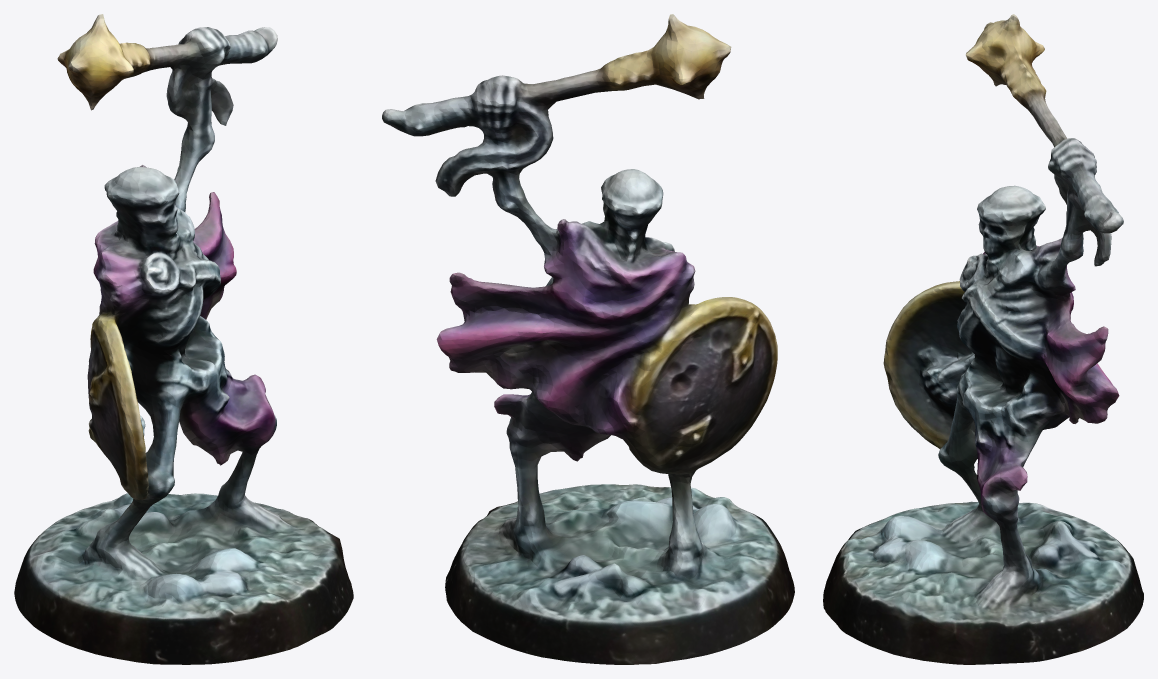
File: underworlds.sepulchral.prince-of-dust.glb
3 views of the same model, side by side, from view 1: azimuth 30°, elevation 25°; view 2: azimuth 150°, elevation 25°; view 3: azimuth 270°, elevation 25° (orthographic). The views are drawn at different scales.
Size of the model in its own units: 0.2315 by 0.4211 by 0.2217.
Materials: 1 (1 with a texture image).
